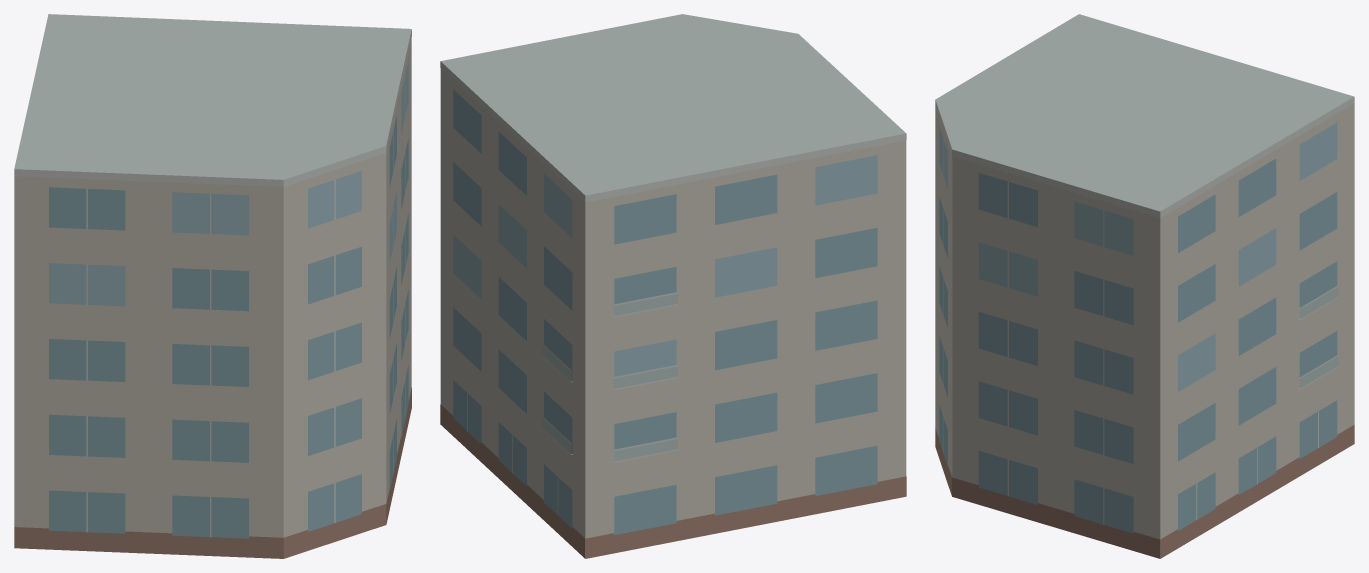
File: survey-upis-32859898.glb
3 renders of one model, left to right at view 1: azimuth 30°, elevation 25°; view 2: azimuth 150°, elevation 25°; view 3: azimuth 270°, elevation 25°, orthographic. The views are drawn at different scales.
Visible parts, largest first — view 1: survey-upis-32859898.tmp; view 2: survey-upis-32859898.tmp; view 3: survey-upis-32859898.tmp.
Boxes of the visible parts, bbox=[...] form: survey-upis-32859898.tmp: bbox=[14, 14, 411, 558]; survey-upis-32859898.tmp: bbox=[440, 14, 906, 558]; survey-upis-32859898.tmp: bbox=[935, 14, 1354, 558].
Size of the model in its own units: 15.87 by 13 by 14.23.
